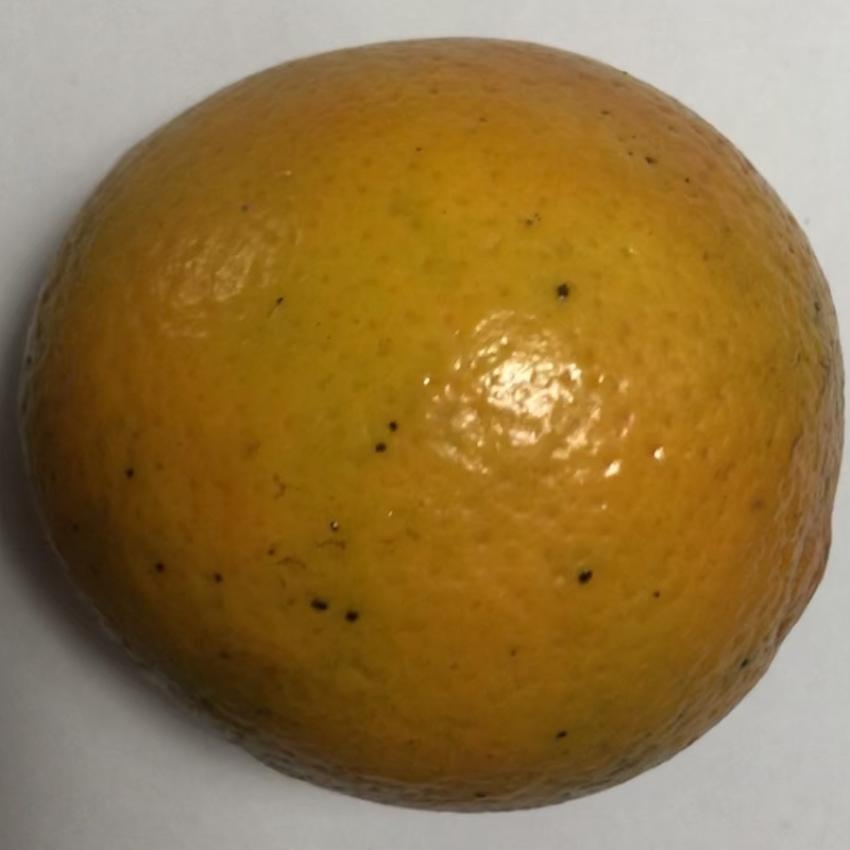Mal estado: (19, 21, 849, 810)
